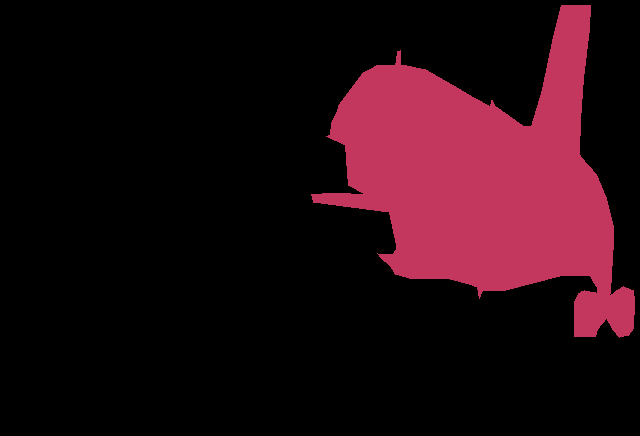Airplane: (311, 5, 635, 338)
